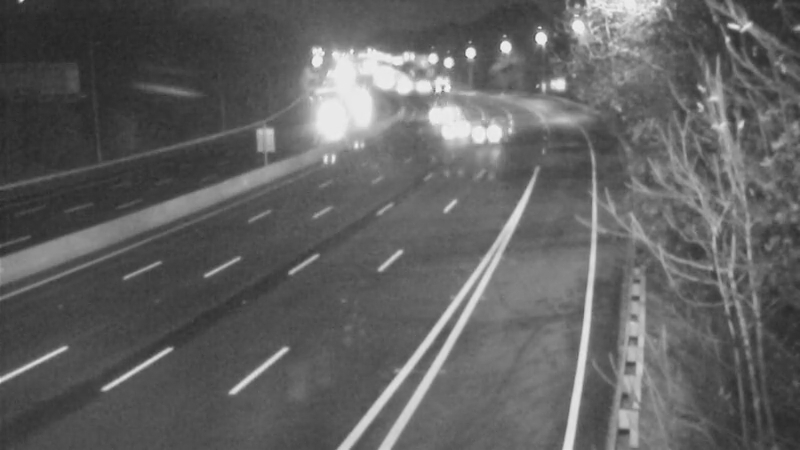vehicle: (414, 90, 464, 140), (435, 98, 485, 148), (456, 103, 506, 153), (305, 96, 355, 146)
